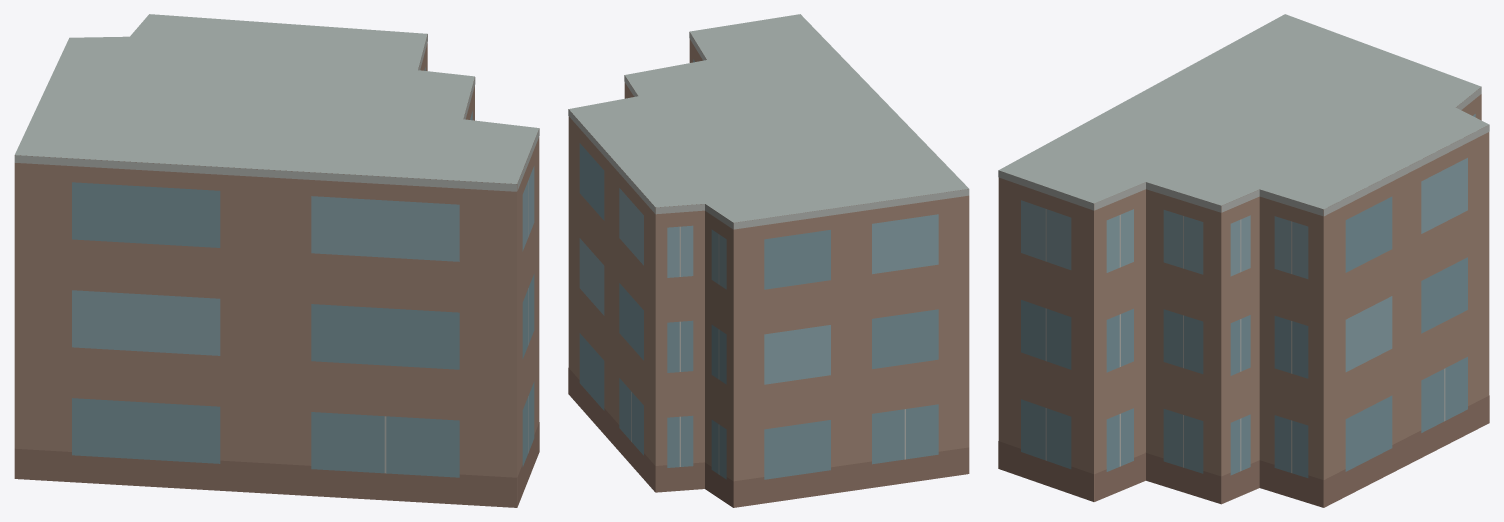
Rendered from survey-upis-32769225.glb.
The picture shows the model from 3 angles, left to right: view 1: azimuth 30°, elevation 25°; view 2: azimuth 150°, elevation 25°; view 3: azimuth 270°, elevation 25°; orthographic projection. The views are drawn at different scales.
Parts seen in each view (by area): view 1: survey-upis-32769225.tmp; view 2: survey-upis-32769225.tmp; view 3: survey-upis-32769225.tmp.
Part boxes in pixels (x1,y1,x2,y2): survey-upis-32769225.tmp: (14, 14, 539, 507); survey-upis-32769225.tmp: (568, 14, 969, 507); survey-upis-32769225.tmp: (998, 14, 1489, 507).
Size of the model in its own units: 14.32 by 10.2 by 15.21.
